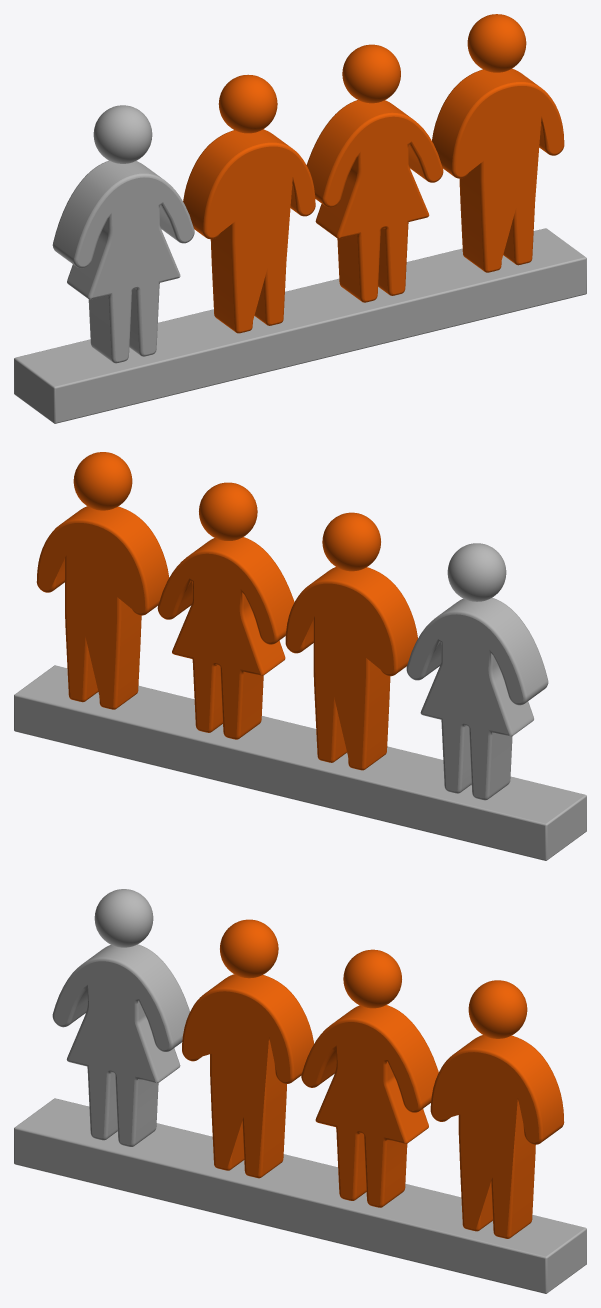
The picture shows the model from 3 angles, top to bottom: view 1: azimuth 30°, elevation 25°; view 2: azimuth 150°, elevation 25°; view 3: azimuth 330°, elevation 25°; orthographic projection.
Visible parts, largest first — view 1: Cube_5, Extrude_1, Cap_2, Cap_2_3, Cap_2_2, Cap_2_4, Extrude_1_4, Extrude_1_3, Rounding_2_2, Rounding_2_4, Sphere, Sphere_1_2 (+4 smaller); view 2: Cube_5, Extrude_1, Cap_1_3, Cap_1, Cap_1_2, Cap_1_4, Extrude_1_4, Extrude_1_3, Rounding_1_2, Rounding_1_4, Sphere_1_2, Sphere (+4 smaller); view 3: Cube_5, Extrude_1, Cap_2, Cap_2_3, Cap_2_4, Cap_2_2, Extrude_1_4, Extrude_1_3, Rounding_2_2, Rounding_2_4, Sphere, Sphere_1 (+4 smaller).
Boxes of the visible parts, left/top/right/bottom form: Cube_5: left=14, top=228, right=586, bottom=423; Extrude_1: left=53, top=129, right=298, bottom=361; Cap_2: left=207, top=146, right=313, bottom=331; Cap_2_3: left=456, top=86, right=562, bottom=270; Cap_2_2: left=78, top=177, right=192, bottom=361; Cap_2_4: left=326, top=116, right=441, bottom=300; Extrude_1_4: left=307, top=100, right=425, bottom=300; Extrude_1_3: left=432, top=68, right=547, bottom=271; Rounding_2_2: left=73, top=173, right=194, bottom=363; Rounding_2_4: left=322, top=112, right=443, bottom=302; Sphere: left=93, top=105, right=152, bottom=163; Sphere_1_2: left=467, top=14, right=526, bottom=72; Cube_5: left=14, top=665, right=586, bottom=860; Extrude_1: left=303, top=567, right=547, bottom=798; Cap_1_3: left=38, top=523, right=145, bottom=707; Cap_1: left=287, top=583, right=393, bottom=768; Cap_1_2: left=408, top=614, right=523, bottom=798; Cap_1_4: left=159, top=553, right=274, bottom=737; Extrude_1_4: left=174, top=537, right=293, bottom=737; Extrude_1_3: left=54, top=506, right=168, bottom=707; Rounding_1_2: left=406, top=610, right=527, bottom=800; Rounding_1_4: left=157, top=549, right=278, bottom=739; Sphere_1_2: left=73, top=452, right=132, bottom=510; Sphere: left=447, top=543, right=506, bottom=601; Cube_5: left=14, top=1098, right=586, bottom=1293; Extrude_1: left=70, top=944, right=313, bottom=1176; Cap_2: left=183, top=991, right=290, bottom=1176; Cap_2_3: left=432, top=1052, right=538, bottom=1236; Cap_2_4: left=303, top=1022, right=417, bottom=1205; Cap_2_2: left=54, top=961, right=169, bottom=1145; Extrude_1_4: left=318, top=1005, right=438, bottom=1205; Extrude_1_3: left=448, top=1035, right=563, bottom=1237; Rounding_2_2: left=52, top=957, right=173, bottom=1146; Rounding_2_4: left=301, top=1018, right=422, bottom=1207; Sphere: left=94, top=889, right=153, bottom=947; Sphere_1: left=220, top=919, right=278, bottom=978.
Size of the model in its own units: 3000 by 1503 by 400.
